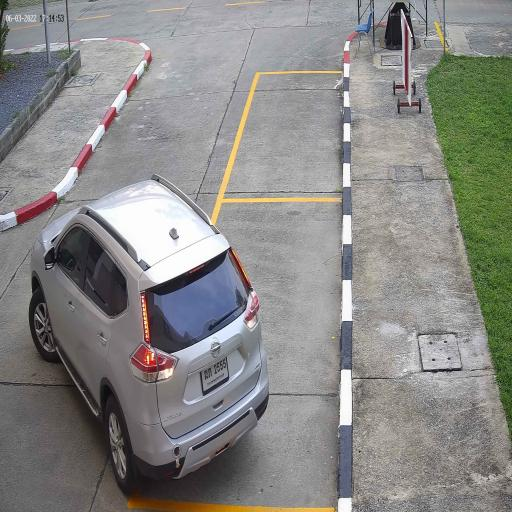car: (28, 171, 272, 496)
